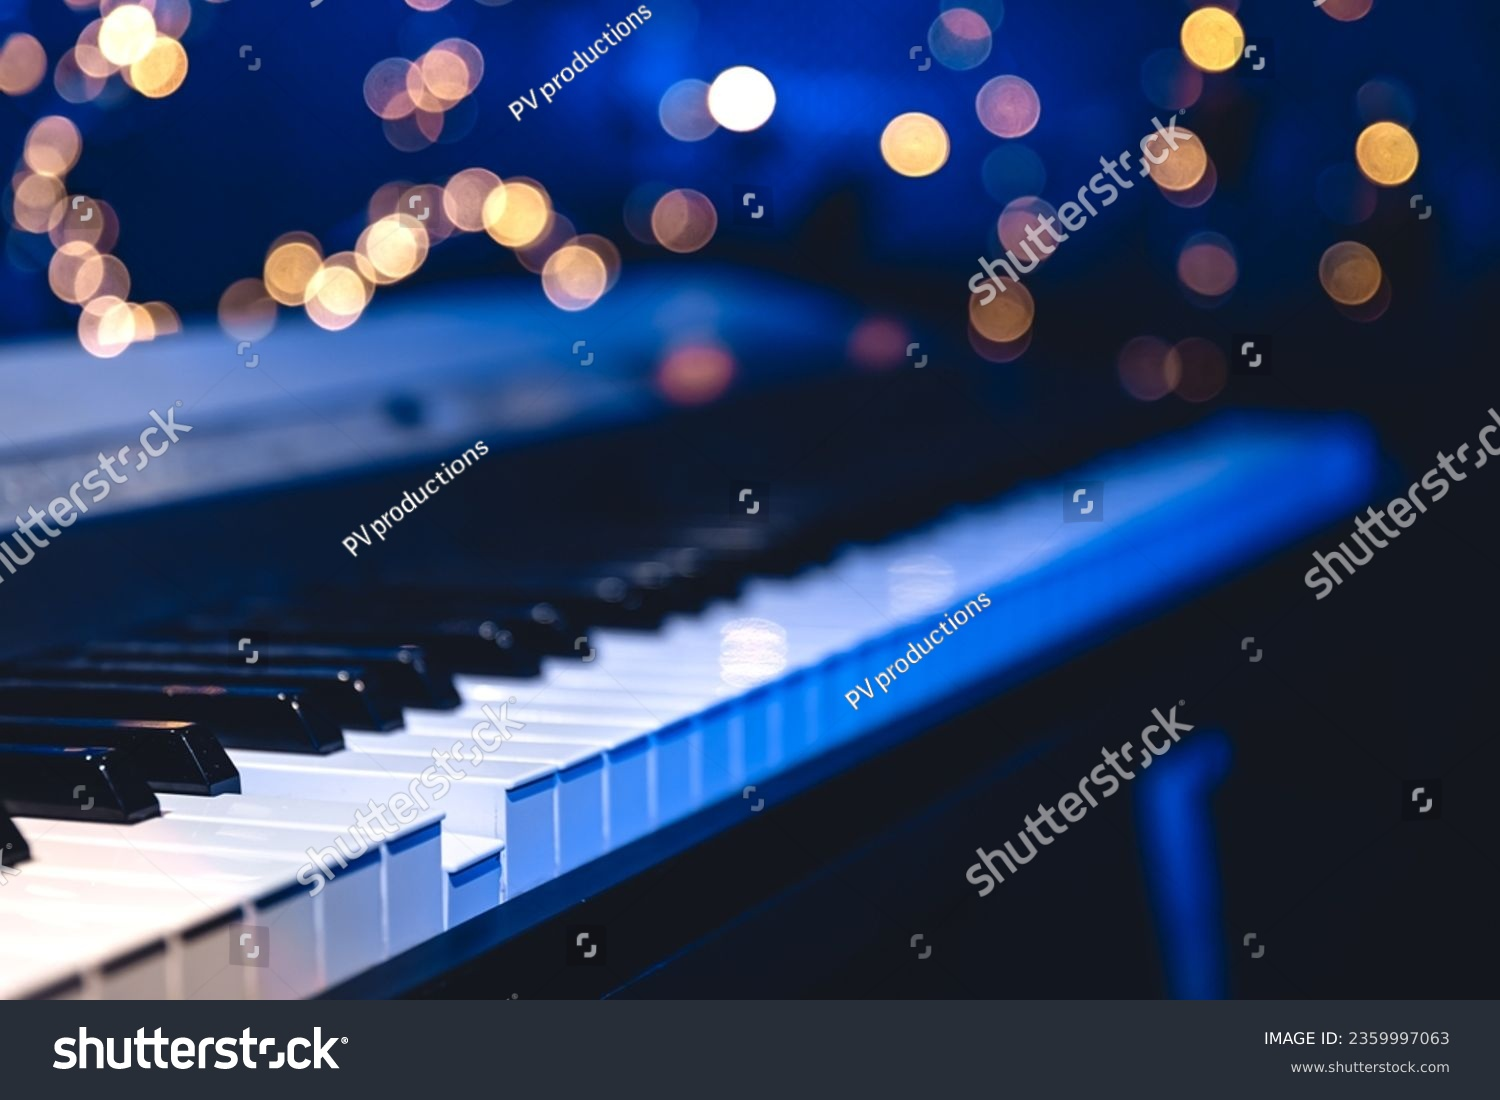Piano: (1, 230, 1403, 993)
